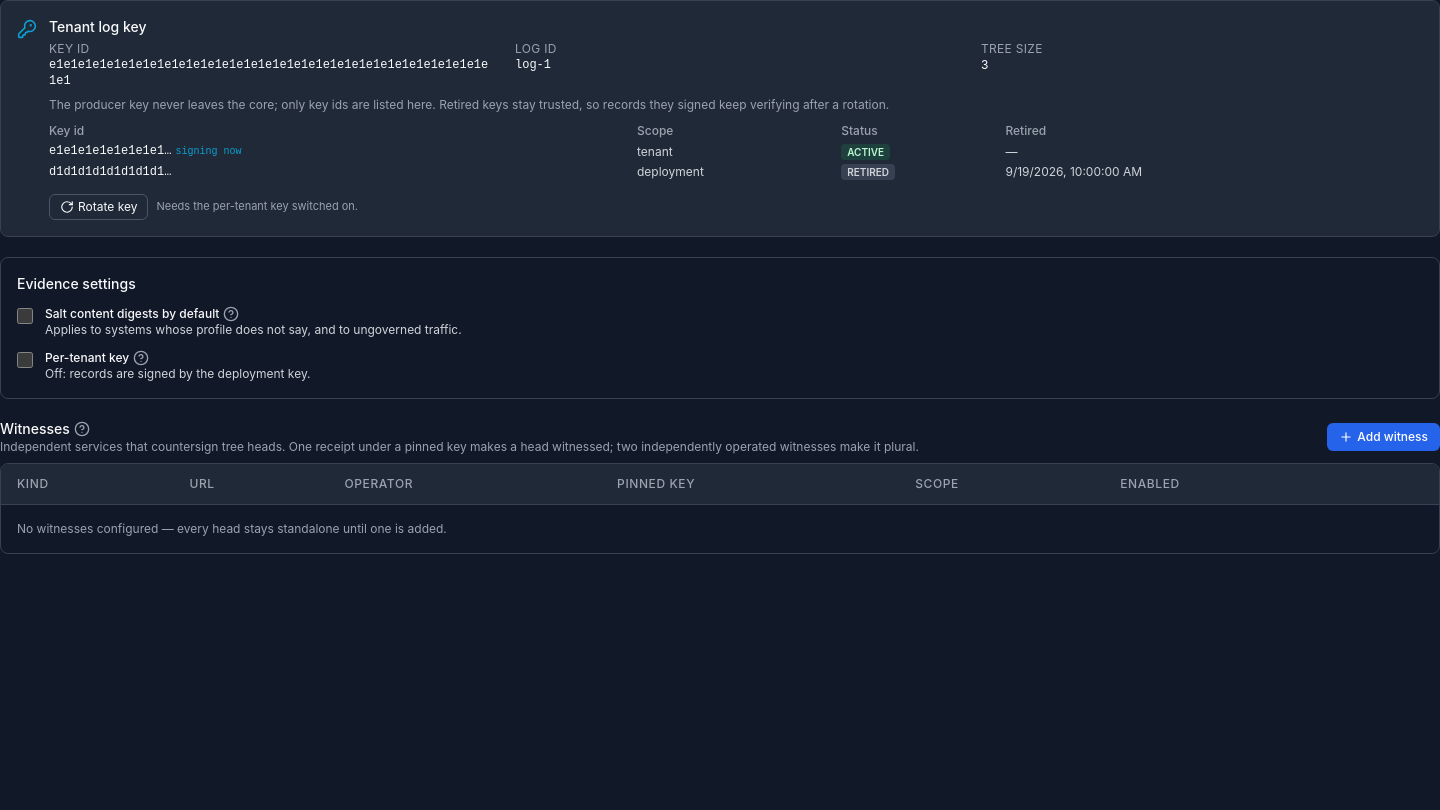
Test: witness form validation › rfc3161: refuses free text
Expected: the cell with test id "witnesses-empty" is shown, 1,504 -> 1439,553
Step 1. Click the button with test id "witness-add" → click(1384, 437), box 1327,423 -> 1439,451
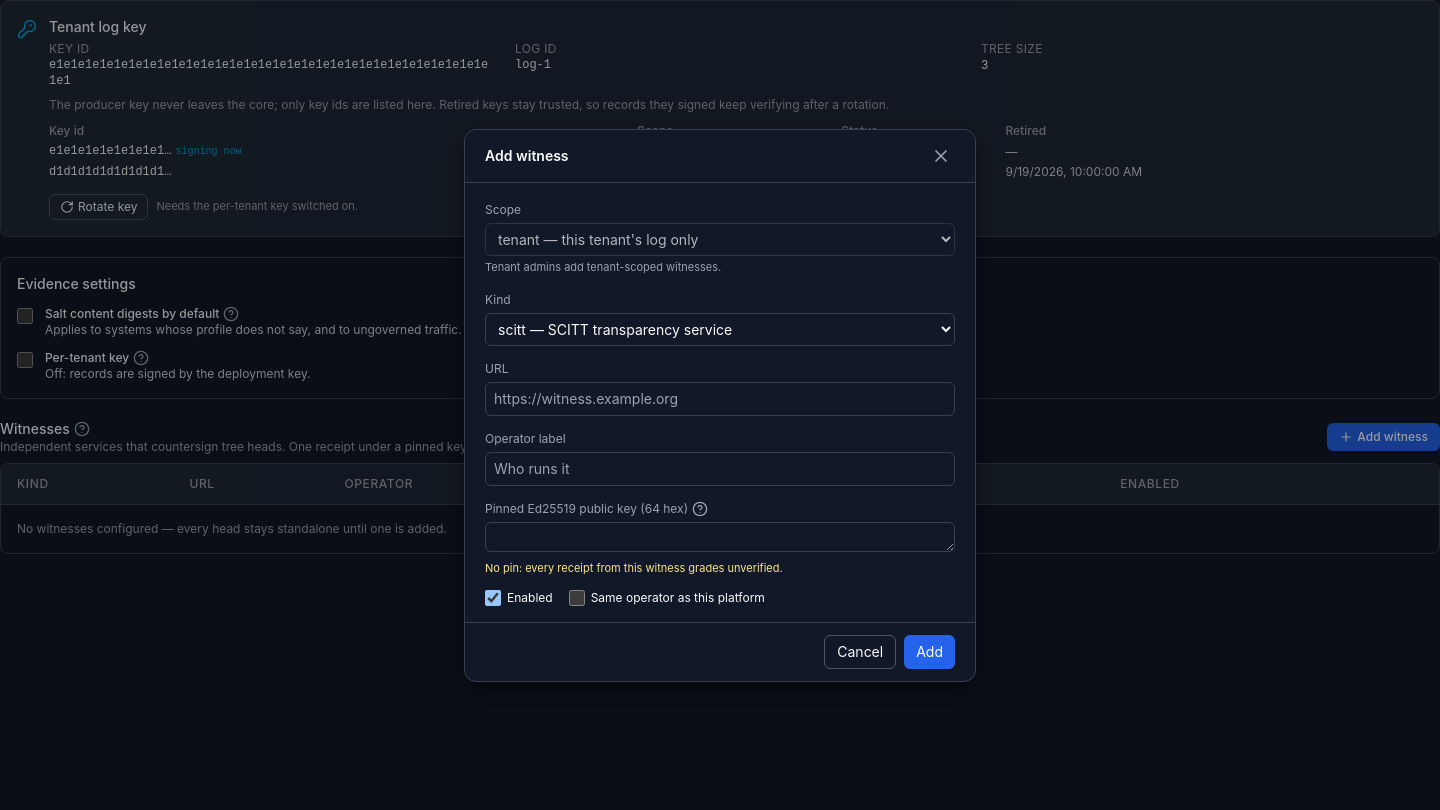
Step 2. Type "https://w.example.org" into the field with test id "witness-url" → (720, 398), box 485,382 -> 955,416
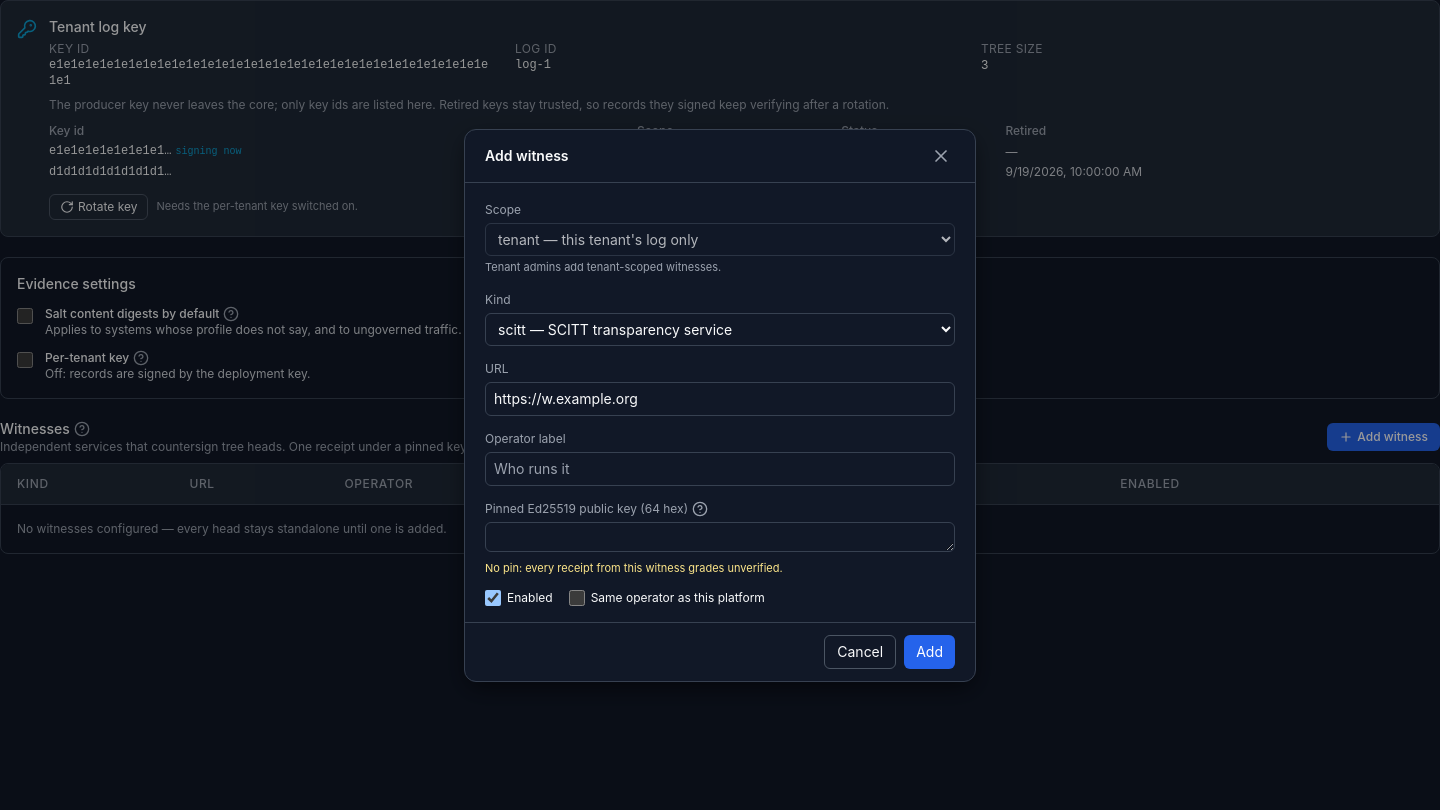
Step 3. Type "Auditor Co" into the field with test id "witness-operator" → (720, 468), box 485,452 -> 955,486
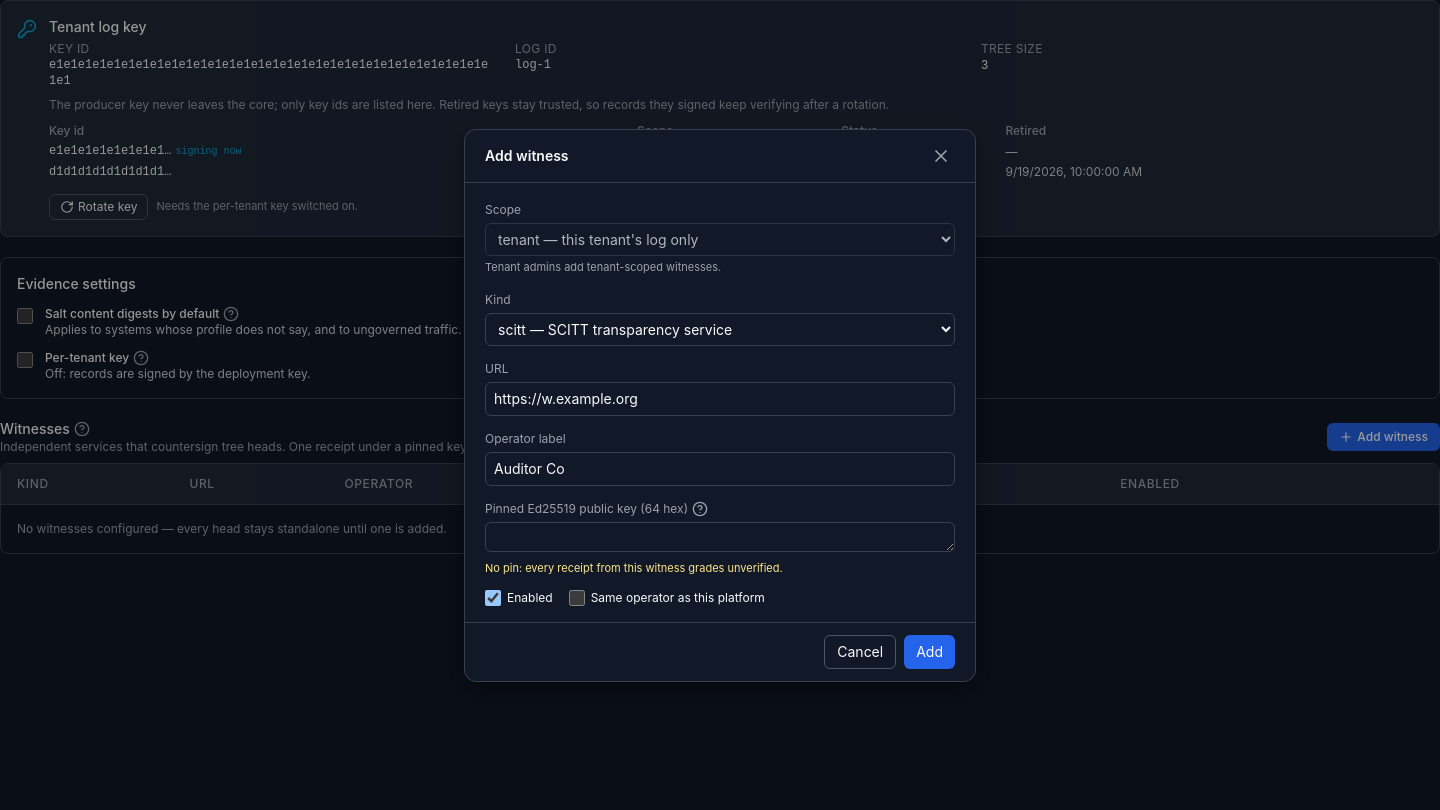
Step 4. Select "rfc3161 — RFC 3161 timestamp authority" in the dropdown with test id "witness-kind" → (720, 329), box 485,312 -> 955,346
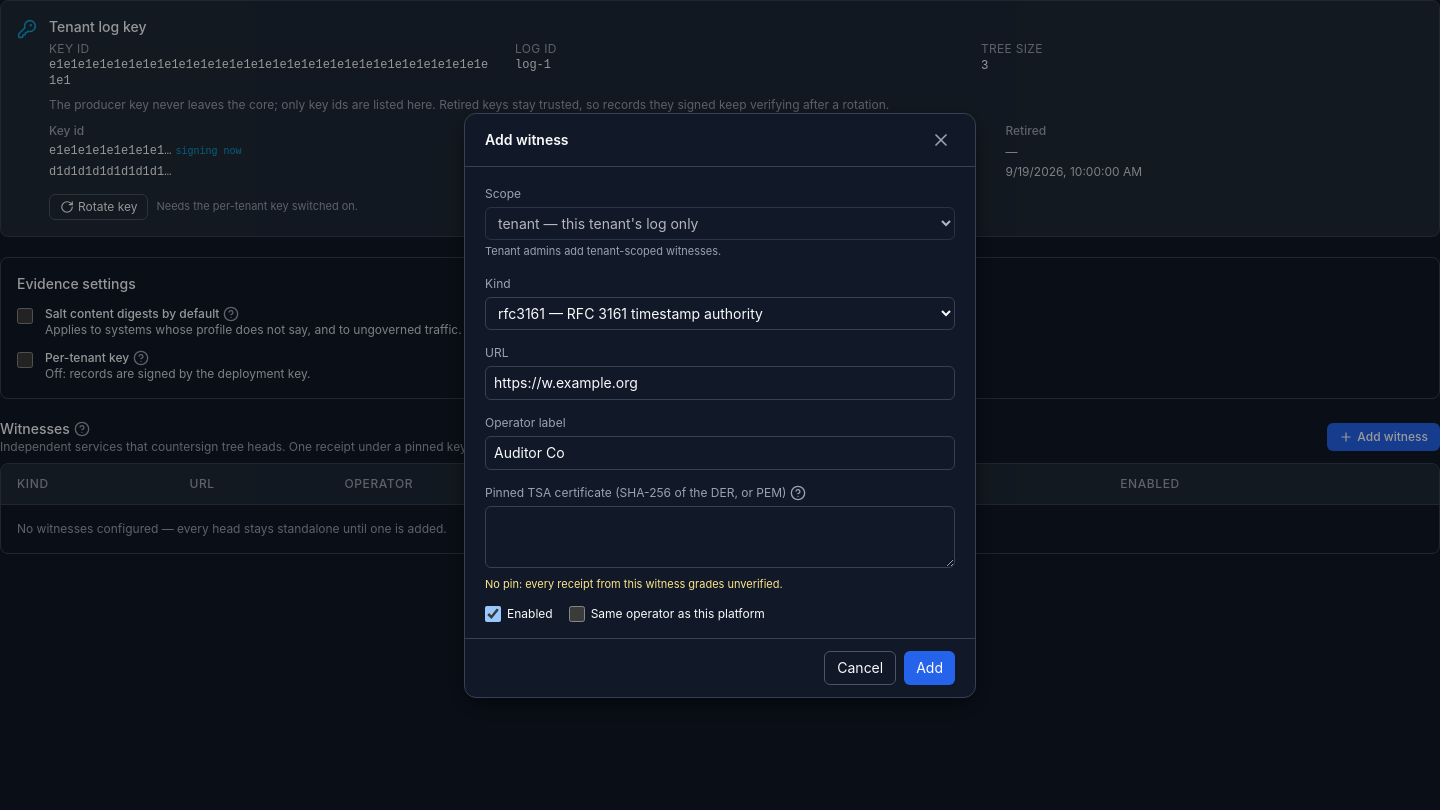
Step 5. Type "my tsa" into the text box with test id "witness-pinned-key" → (720, 536), box 485,506 -> 955,568
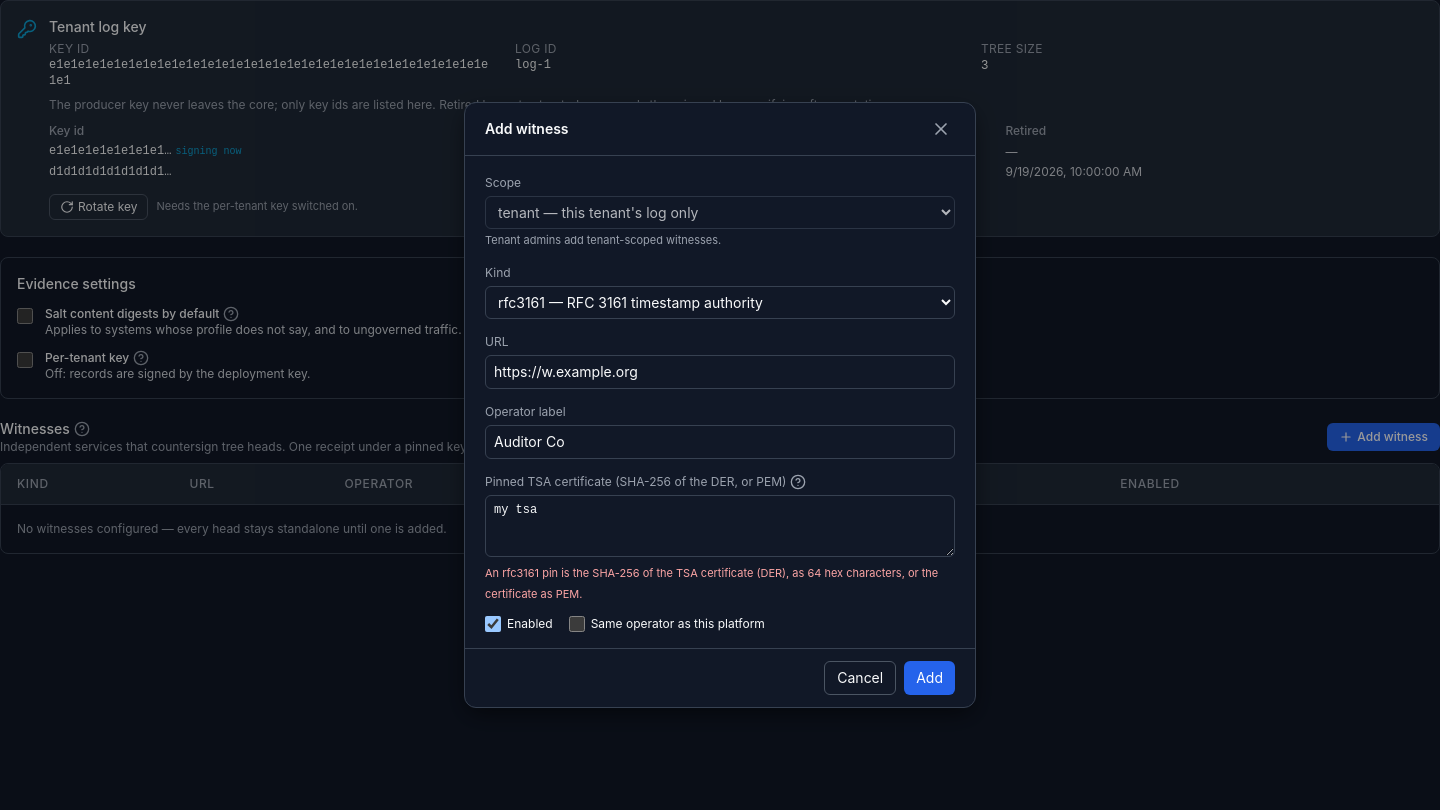
Result: the text with test id "witness-pin-error" shows "SHA-256" at 485,566 -> 938,601
